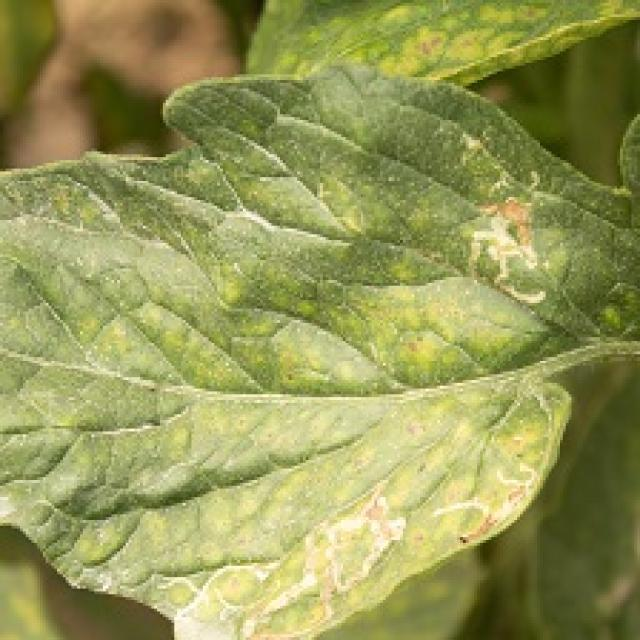Tuta absoluta: (261, 490, 408, 640), (461, 194, 562, 306), (438, 451, 552, 545)
